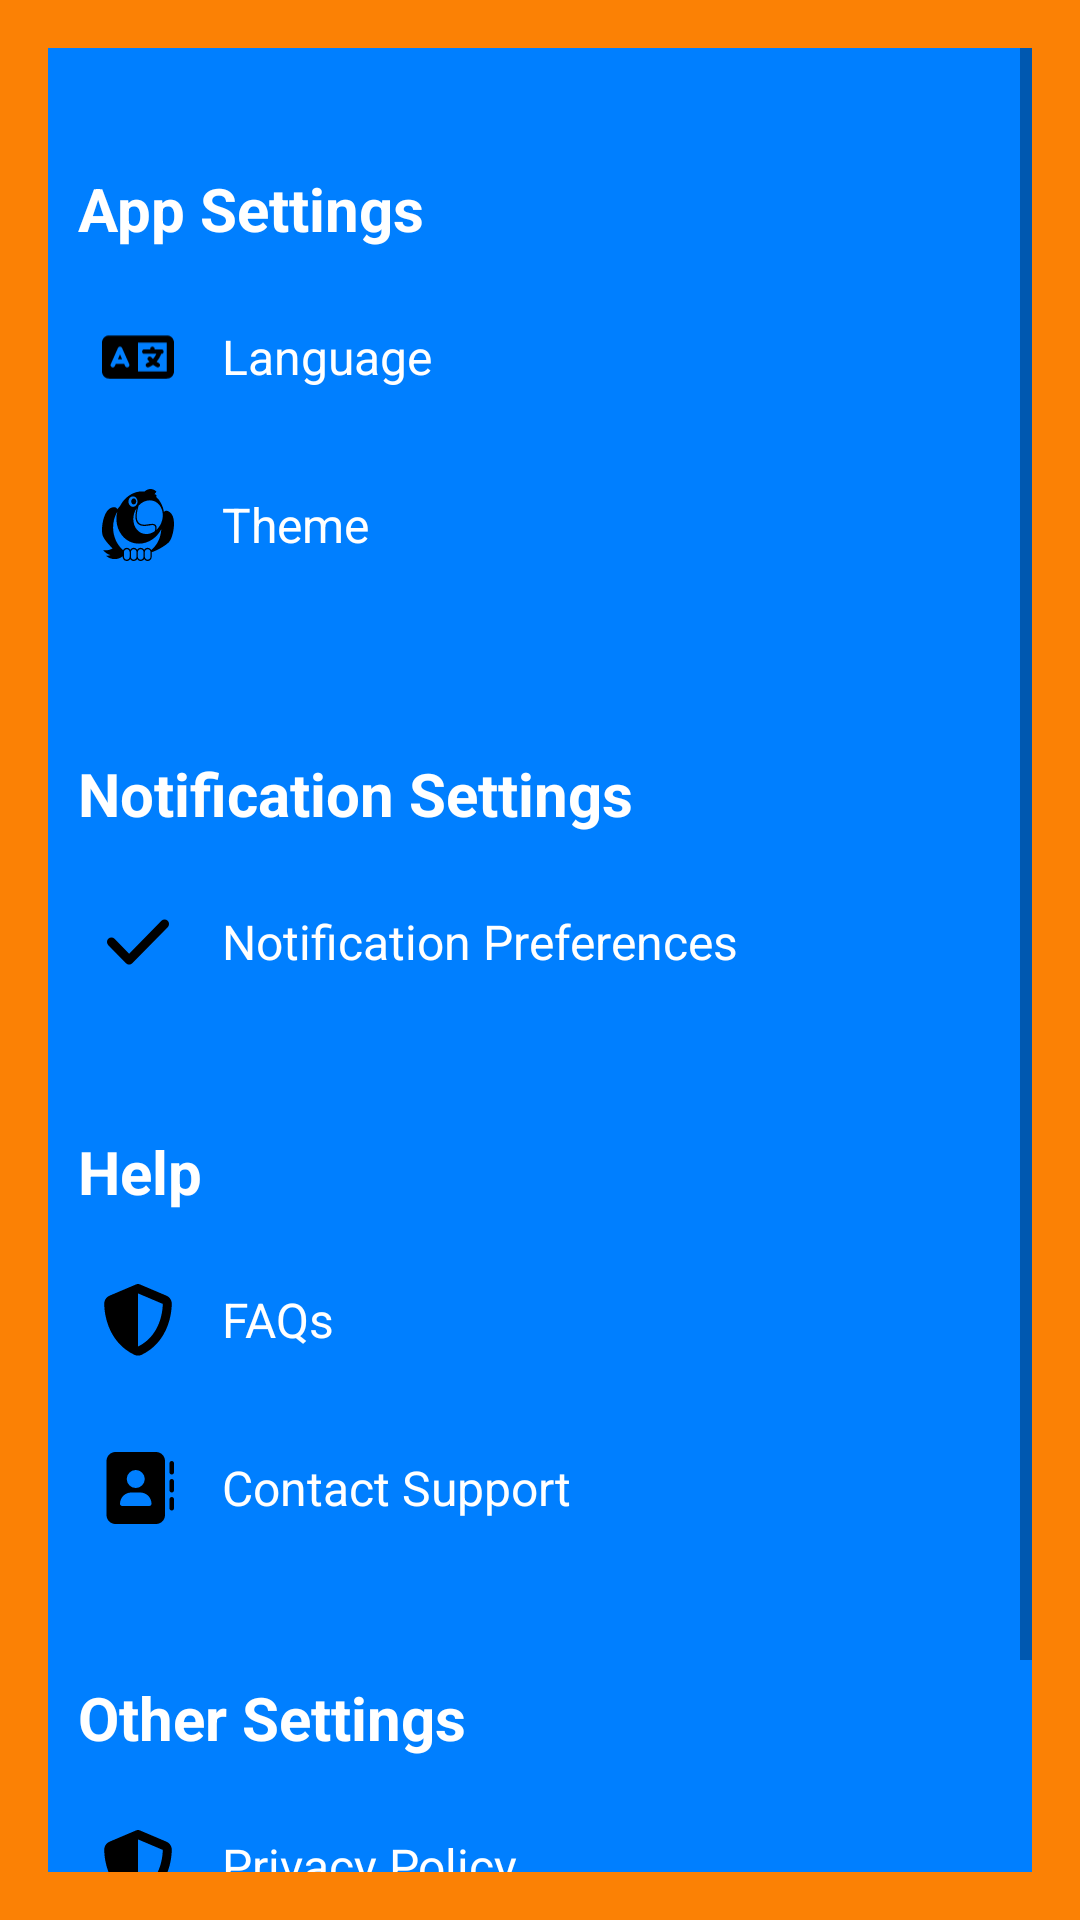

Icon bounding boxes for this 1080×1920 phone screenshot, format (x1, y1, x2, y2):
notification check: (107, 919, 169, 965)
